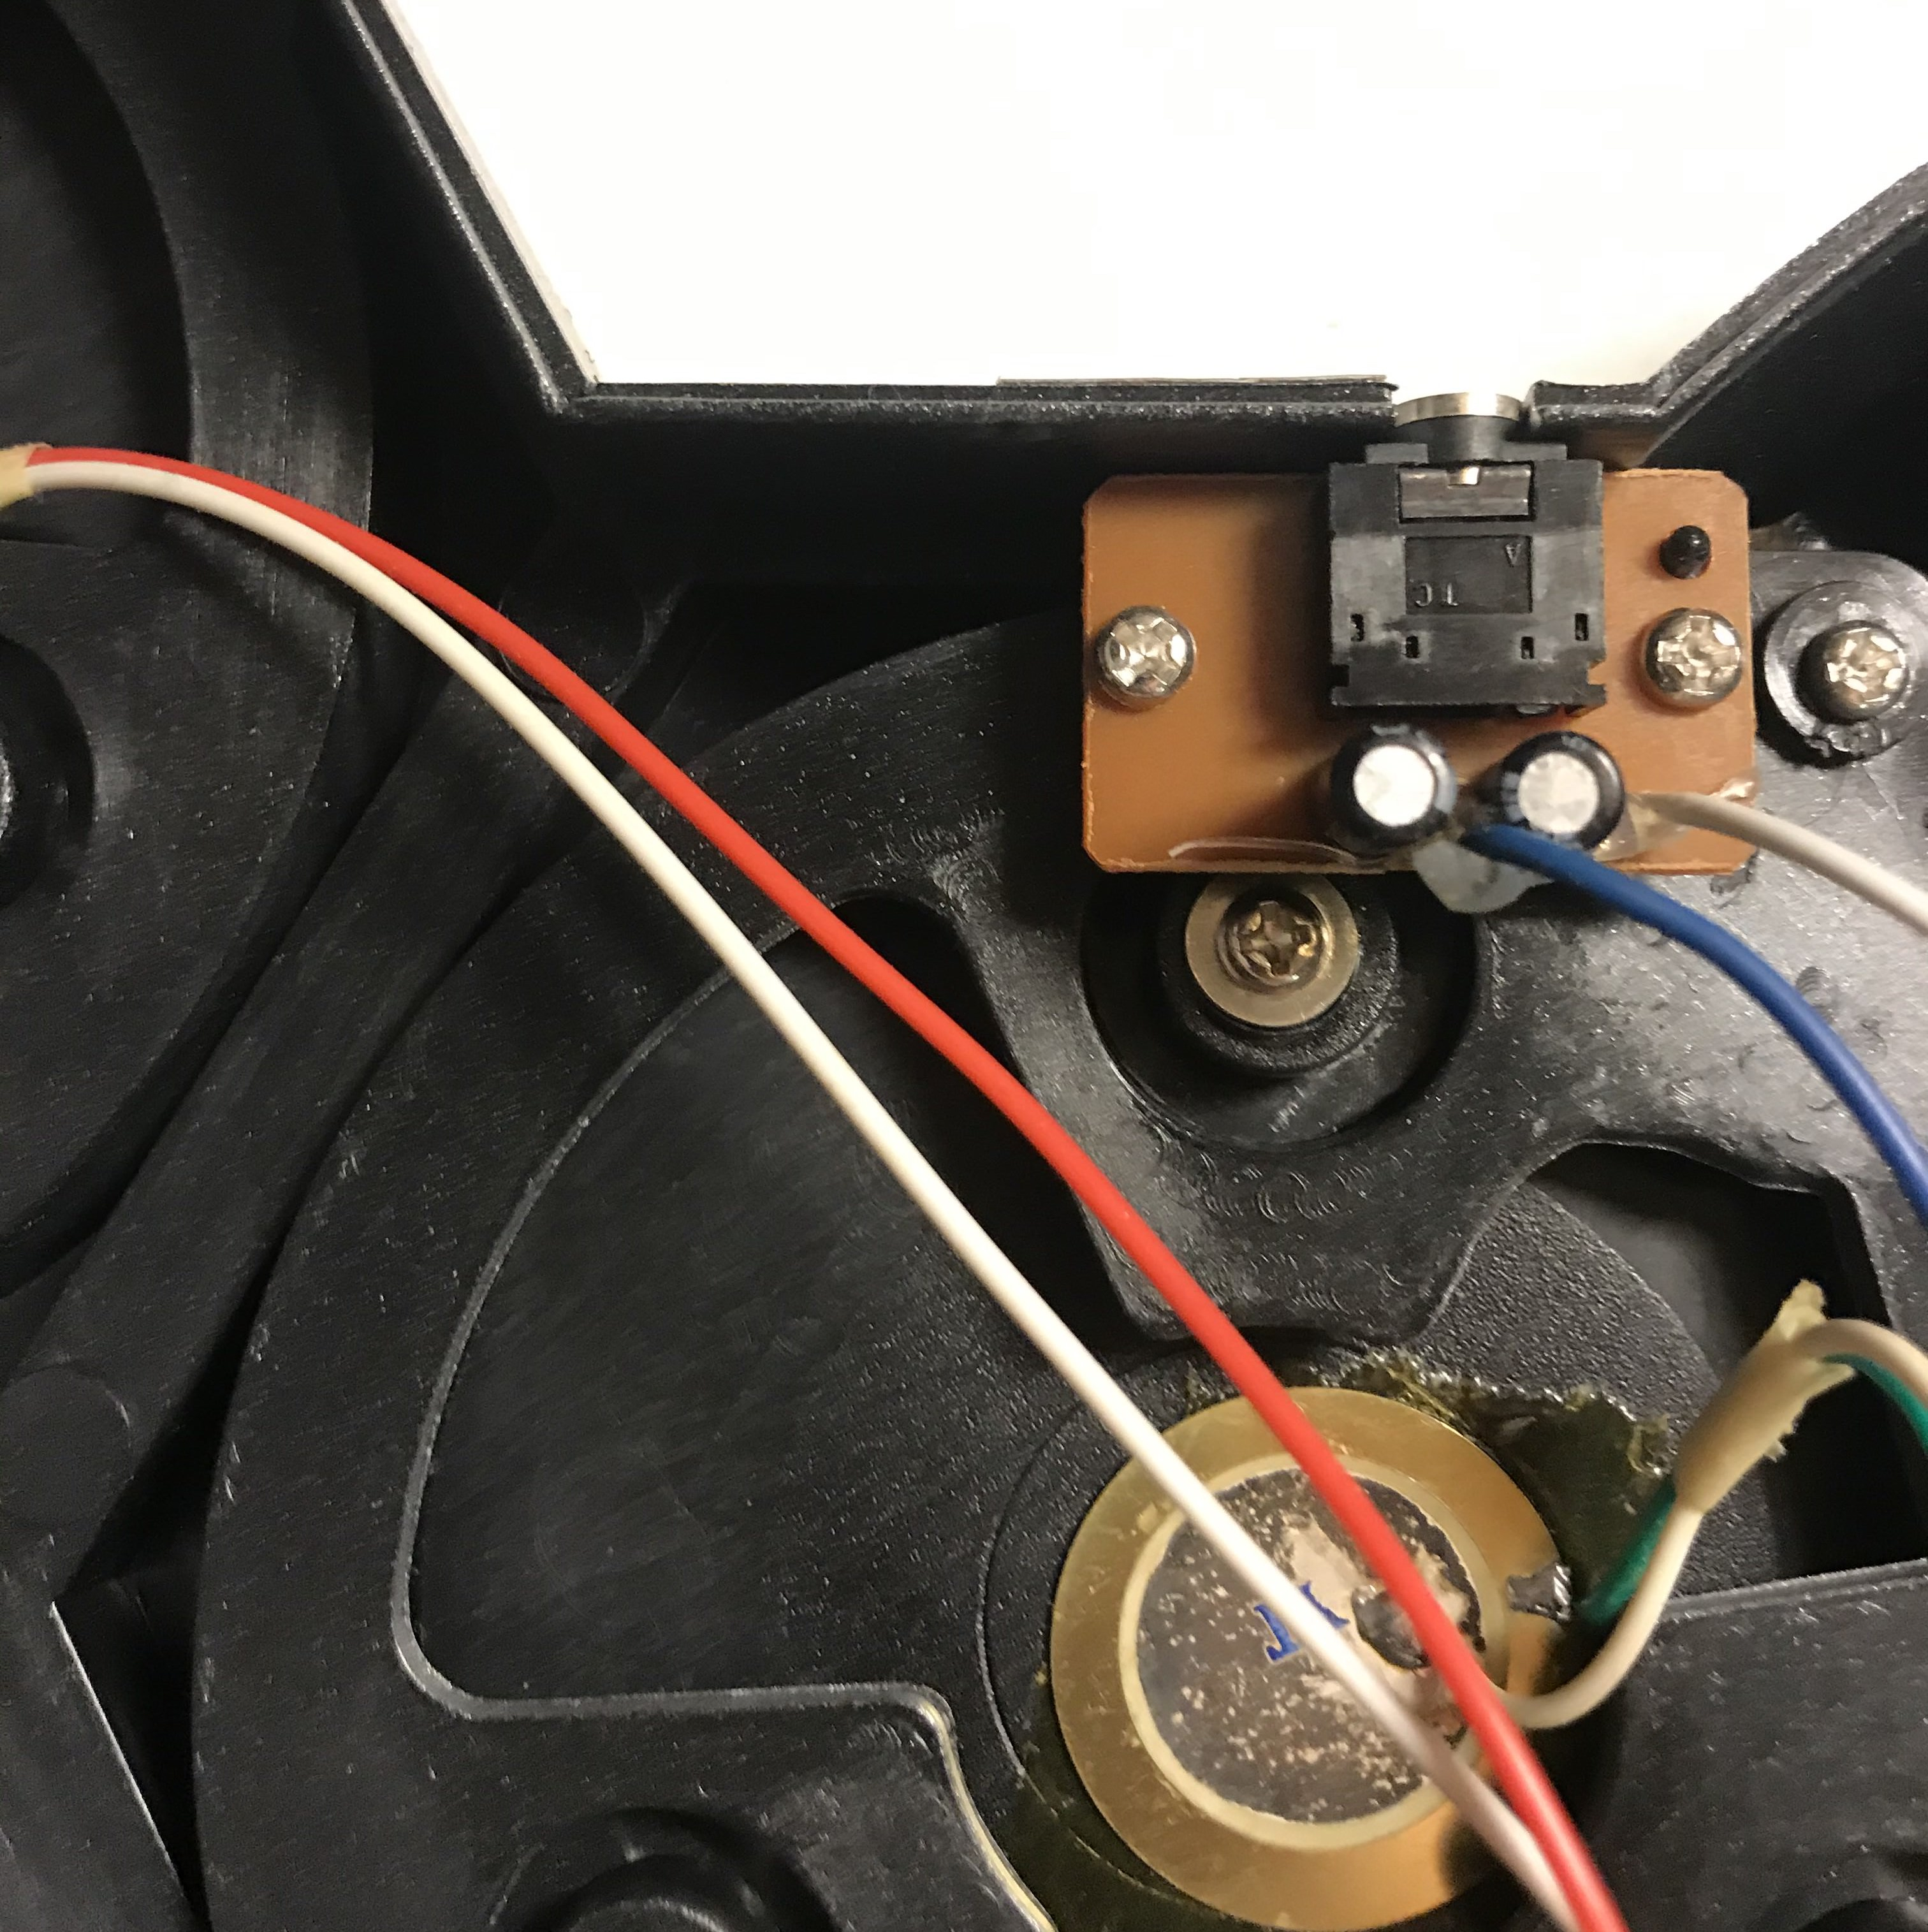Capacitor: (1301, 719, 1464, 865), (1464, 728, 1633, 858)
